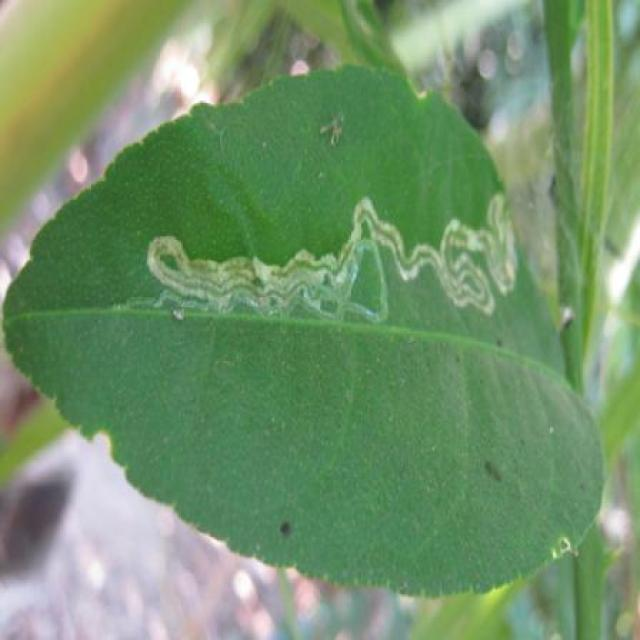Leaf Miner: (0, 63, 603, 594)
